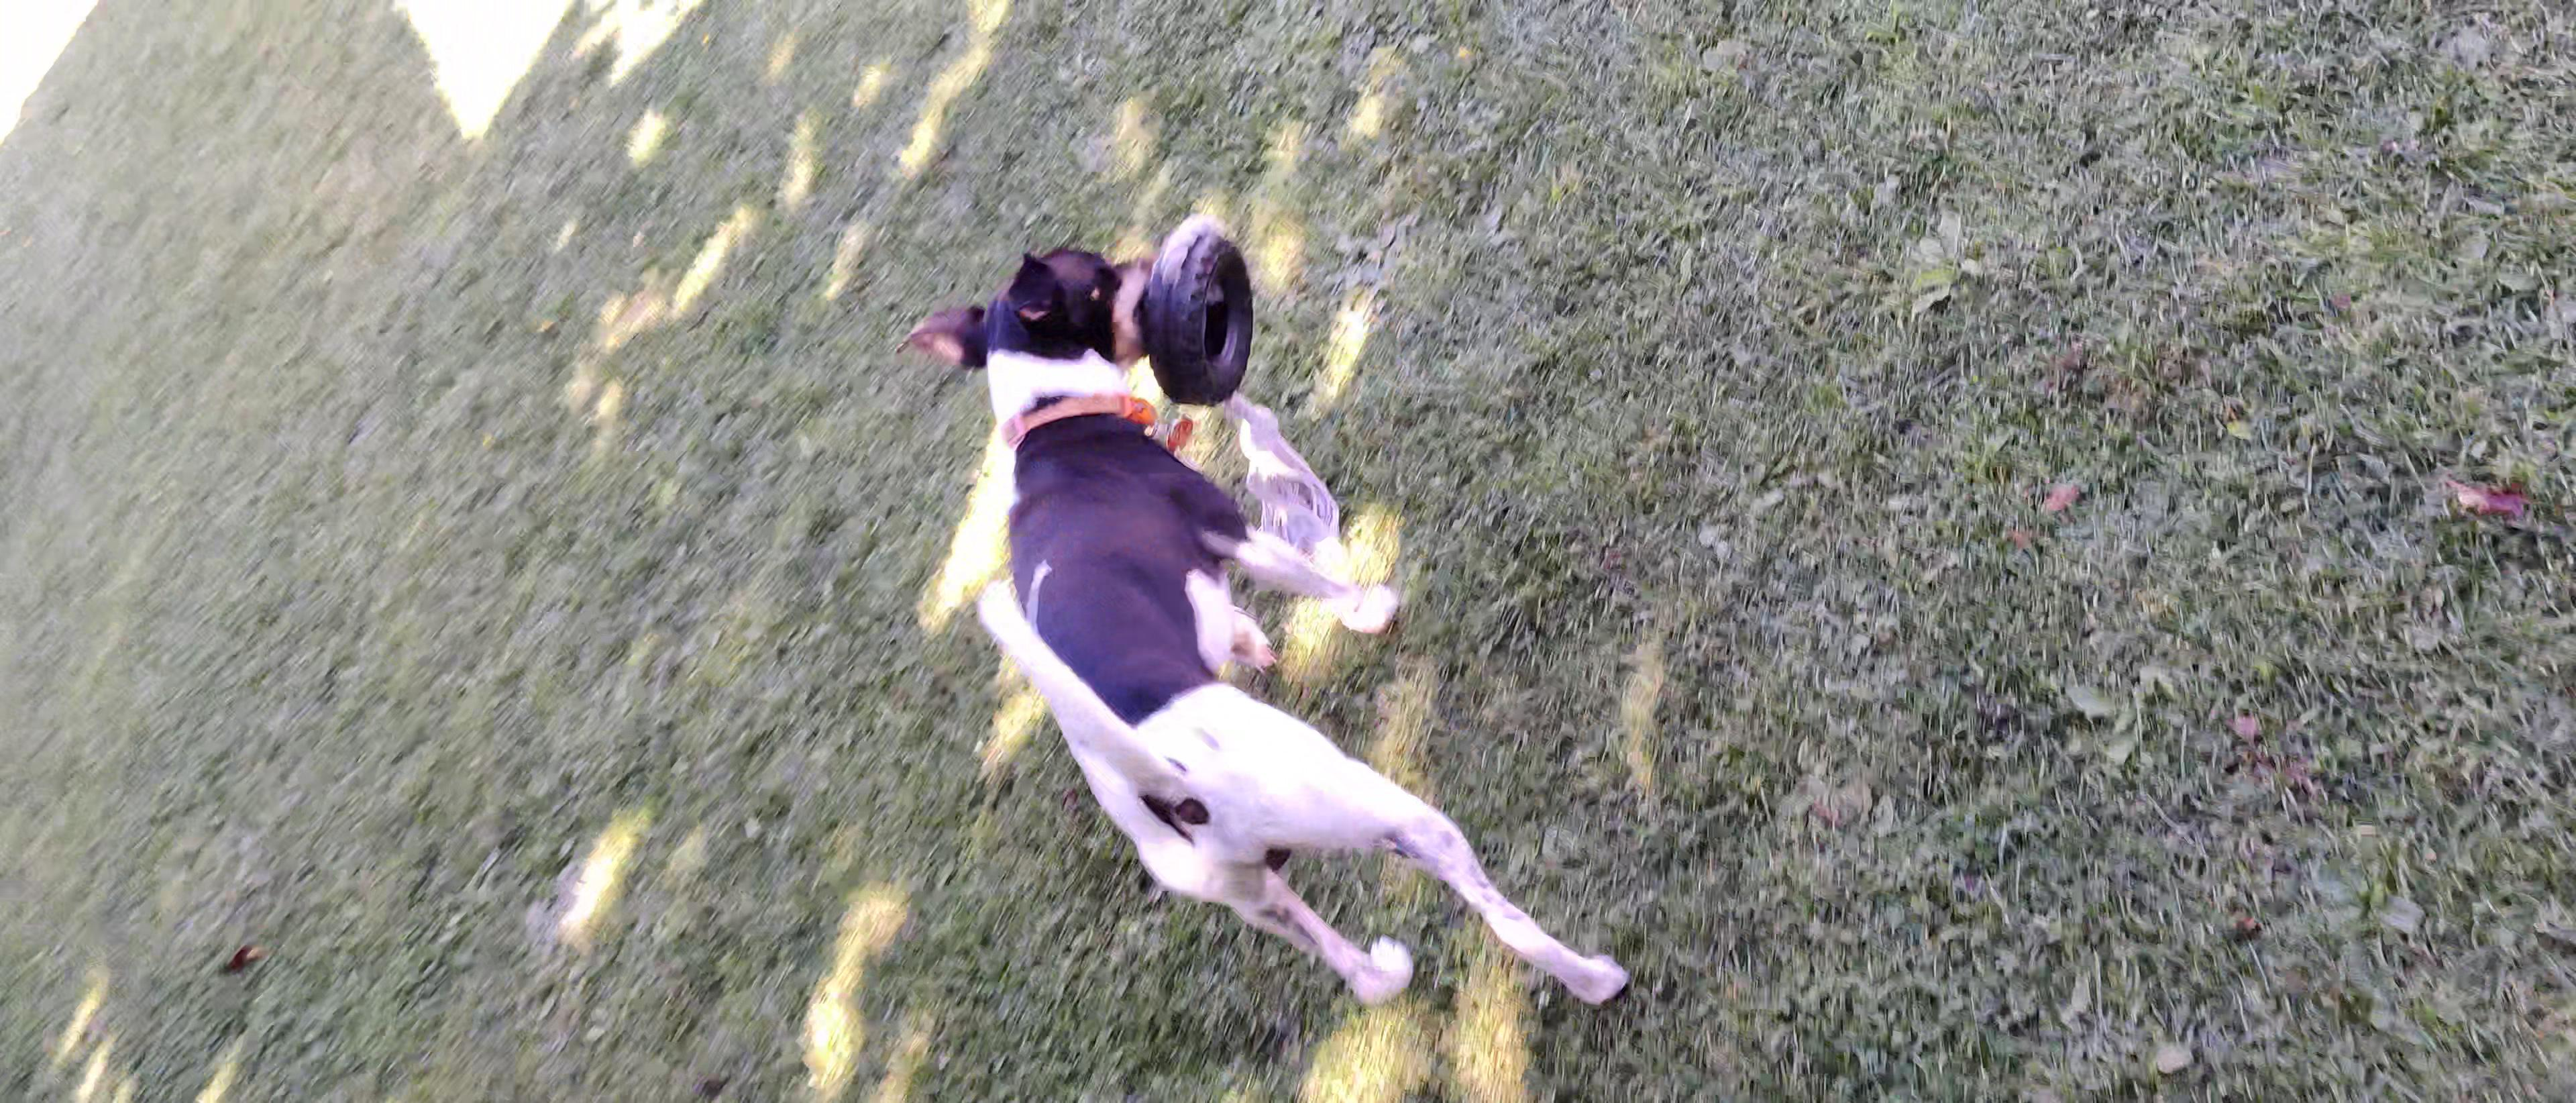Dog: (882, 232, 1643, 1021)
